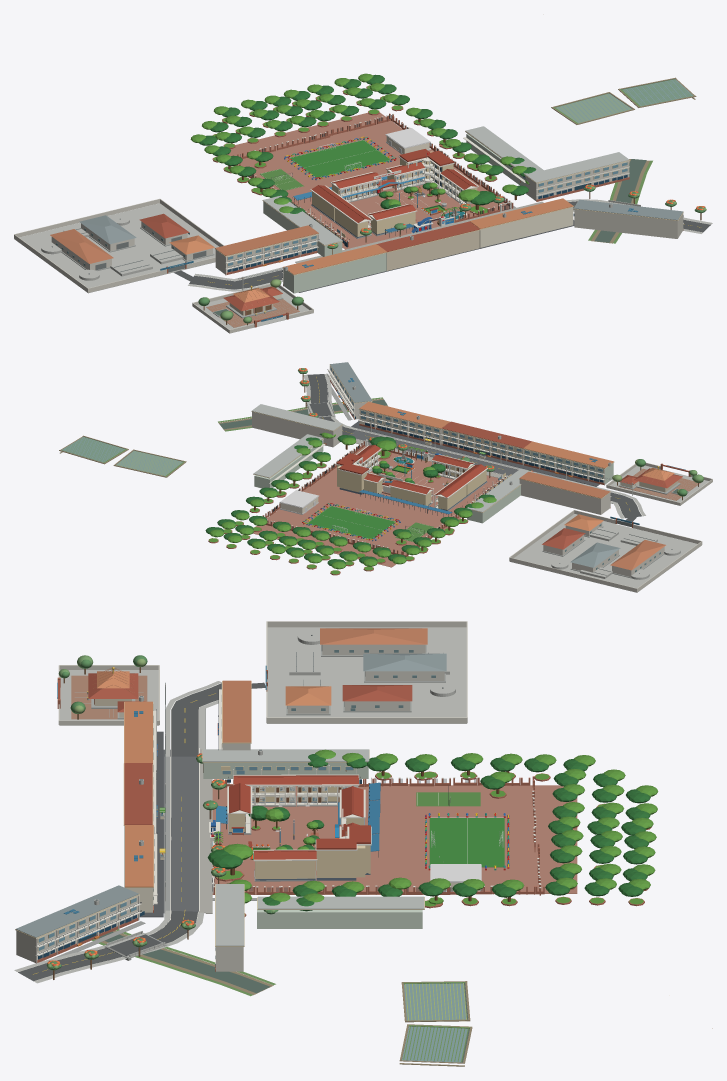
File: NGUYENKHUYEN1_HANG_RAO_AN.glb
3 views of the same model, one above another, from view 1: azimuth 30°, elevation 25°; view 2: azimuth 150°, elevation 25°; view 3: azimuth 270°, elevation 25° (orthographic). The views are drawn at different scales.
Visible parts, largest first — view 1: SanGachChinh.001, Nha_may_nuoc_Lien_Tham_San_be_tong, SanGachChinh.002, Mat_san_co_nhan_tao, Day_nha_doi_dien_trai_Khoi_lien_day.002, Day_nha_doi_dien_trai_Khoi_lien_day.001, Day_nha_doi_dien_phai_Khoi_lien_day, Day_nha_doi_dien_trai_Khoi_lien_day, Ruong_lua_Chanh_Diec_04_Mat_nuoc_mong, Day_nha_doi_dien_trai_Khoi_lien_day.003, Ruong_lua_Chanh_Diec_05_Mat_nuoc_mong, Day_nha_doi_dien_trai_Mai.003 (+24 smaller); view 2: SanGachChinh.001, Nha_may_nuoc_Lien_Tham_San_be_tong, SanGachChinh.002, Mat_san_co_nhan_tao, Day_nha_doi_dien_trai_Khoi_lien_day.004, Day_nha_doi_dien_trai_Khoi_lien_day.003, Mat_quoc_lo, Ruong_lua_Chanh_Diec_04_Mat_nuoc_mong, Ruong_lua_Chanh_Diec_05_Mat_nuoc_mong, Ruong_lua_Chanh_Diec_04_Hang_lua, Day_nha_doi_dien_trai_Mai.004, Day_nha_doi_dien_trai_Mai.003 (+27 smaller); view 3: SanGachChinh.001, Nha_may_nuoc_Lien_Tham_San_be_tong, SanGachChinh.002, Mat_san_co_nhan_tao, Day_nha_dan_ben_phai_Khoi_lien_day, Mat_duong_khu_pho, Ruong_lua_Chanh_Diec_04_Mat_nuoc_mong, Quoc_lo_17B_Mo_rong_phia_tay, Day_nha_dan_ben_phai_Mai, Ruong_lua_Chanh_Diec_05_Mat_nuoc_mong, Day_nha_doi_dien_trai_Mai.003, Day_nha_doi_dien_trai_Mai.004 (+33 smaller).
Part boxes in pixels (left/top/right/bottom): SanGachChinh.001: left=227, top=112, right=456, bottom=207; Nha_may_nuoc_Lien_Tham_San_be_tong: left=14, top=203, right=219, bottom=293; SanGachChinh.002: left=301, top=149, right=511, bottom=249; Mat_san_co_nhan_tao: left=289, top=140, right=390, bottom=177; Day_nha_doi_dien_trai_Khoi_lien_day.002: left=574, top=209, right=682, bottom=238; Day_nha_doi_dien_trai_Khoi_lien_day.001: left=283, top=253, right=386, bottom=293; Day_nha_doi_dien_phai_Khoi_lien_day: left=479, top=207, right=573, bottom=247; Day_nha_doi_dien_trai_Khoi_lien_day: left=386, top=230, right=479, bottom=270; Ruong_lua_Chanh_Diec_04_Mat_nuoc_mong: left=556, top=93, right=632, bottom=123; Day_nha_doi_dien_trai_Khoi_lien_day.003: left=526, top=161, right=629, bottom=200; Ruong_lua_Chanh_Diec_05_Mat_nuoc_mong: left=622, top=79, right=693, bottom=106; Day_nha_doi_dien_trai_Mai.003: left=526, top=152, right=629, bottom=182; SanGachChinh.001: left=253, top=481, right=460, bottom=567; Nha_may_nuoc_Lien_Tham_San_be_tong: left=510, top=514, right=701, bottom=592; SanGachChinh.002: left=303, top=445, right=503, bottom=529; Mat_san_co_nhan_tao: left=307, top=506, right=395, bottom=538; Day_nha_doi_dien_trai_Khoi_lien_day.004: left=519, top=479, right=609, bottom=514; Day_nha_doi_dien_trai_Khoi_lien_day.003: left=252, top=412, right=342, bottom=447; Mat_quoc_lo: left=351, top=421, right=599, bottom=486; Ruong_lua_Chanh_Diec_04_Mat_nuoc_mong: left=116, top=450, right=182, bottom=475; Ruong_lua_Chanh_Diec_05_Mat_nuoc_mong: left=62, top=436, right=125, bottom=462; Ruong_lua_Chanh_Diec_04_Hang_lua: left=116, top=451, right=182, bottom=475; Day_nha_doi_dien_trai_Mai.004: left=519, top=471, right=610, bottom=498; Day_nha_doi_dien_trai_Mai.003: left=252, top=404, right=342, bottom=430; SanGachChinh.001: left=361, top=785, right=577, bottom=893; Nha_may_nuoc_Lien_Tham_San_be_tong: left=267, top=627, right=466, bottom=723; SanGachChinh.002: left=212, top=784, right=423, bottom=894; Mat_san_co_nhan_tao: left=429, top=817, right=504, bottom=867; Day_nha_dan_ben_phai_Khoi_lien_day: left=257, top=901, right=422, bottom=928; Mat_duong_khu_pho: left=179, top=756, right=198, bottom=911; Ruong_lua_Chanh_Diec_04_Mat_nuoc_mong: left=404, top=983, right=466, bottom=1020; Quoc_lo_17B_Mo_rong_phia_tay: left=171, top=683, right=221, bottom=756; Day_nha_dan_ben_phai_Mai: left=258, top=896, right=424, bottom=909; Ruong_lua_Chanh_Diec_05_Mat_nuoc_mong: left=402, top=1026, right=467, bottom=1062; Day_nha_doi_dien_trai_Mai.003: left=215, top=884, right=244, bottom=946; Day_nha_doi_dien_trai_Mai.004: left=222, top=680, right=251, bottom=742.
Size of what is drawn, in the model's own units: 534 by 24.38 by 362.
